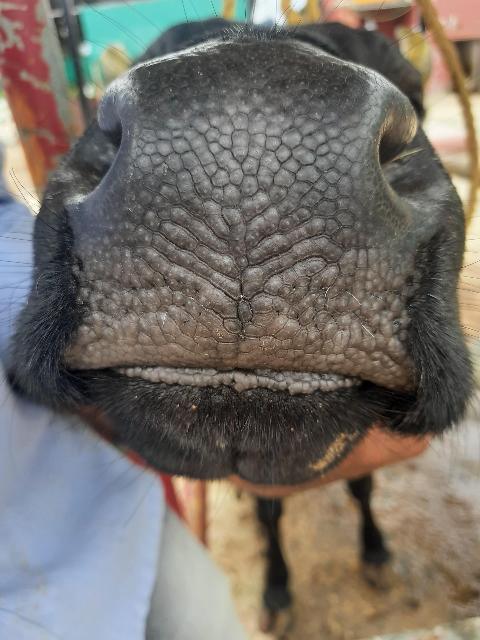Muzzle: (110, 72, 390, 358)
